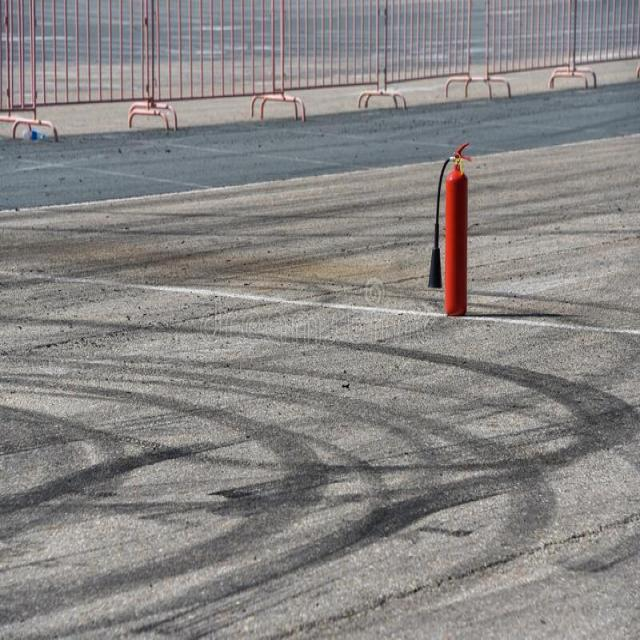fire_extinguisher: (424, 139, 474, 321)
